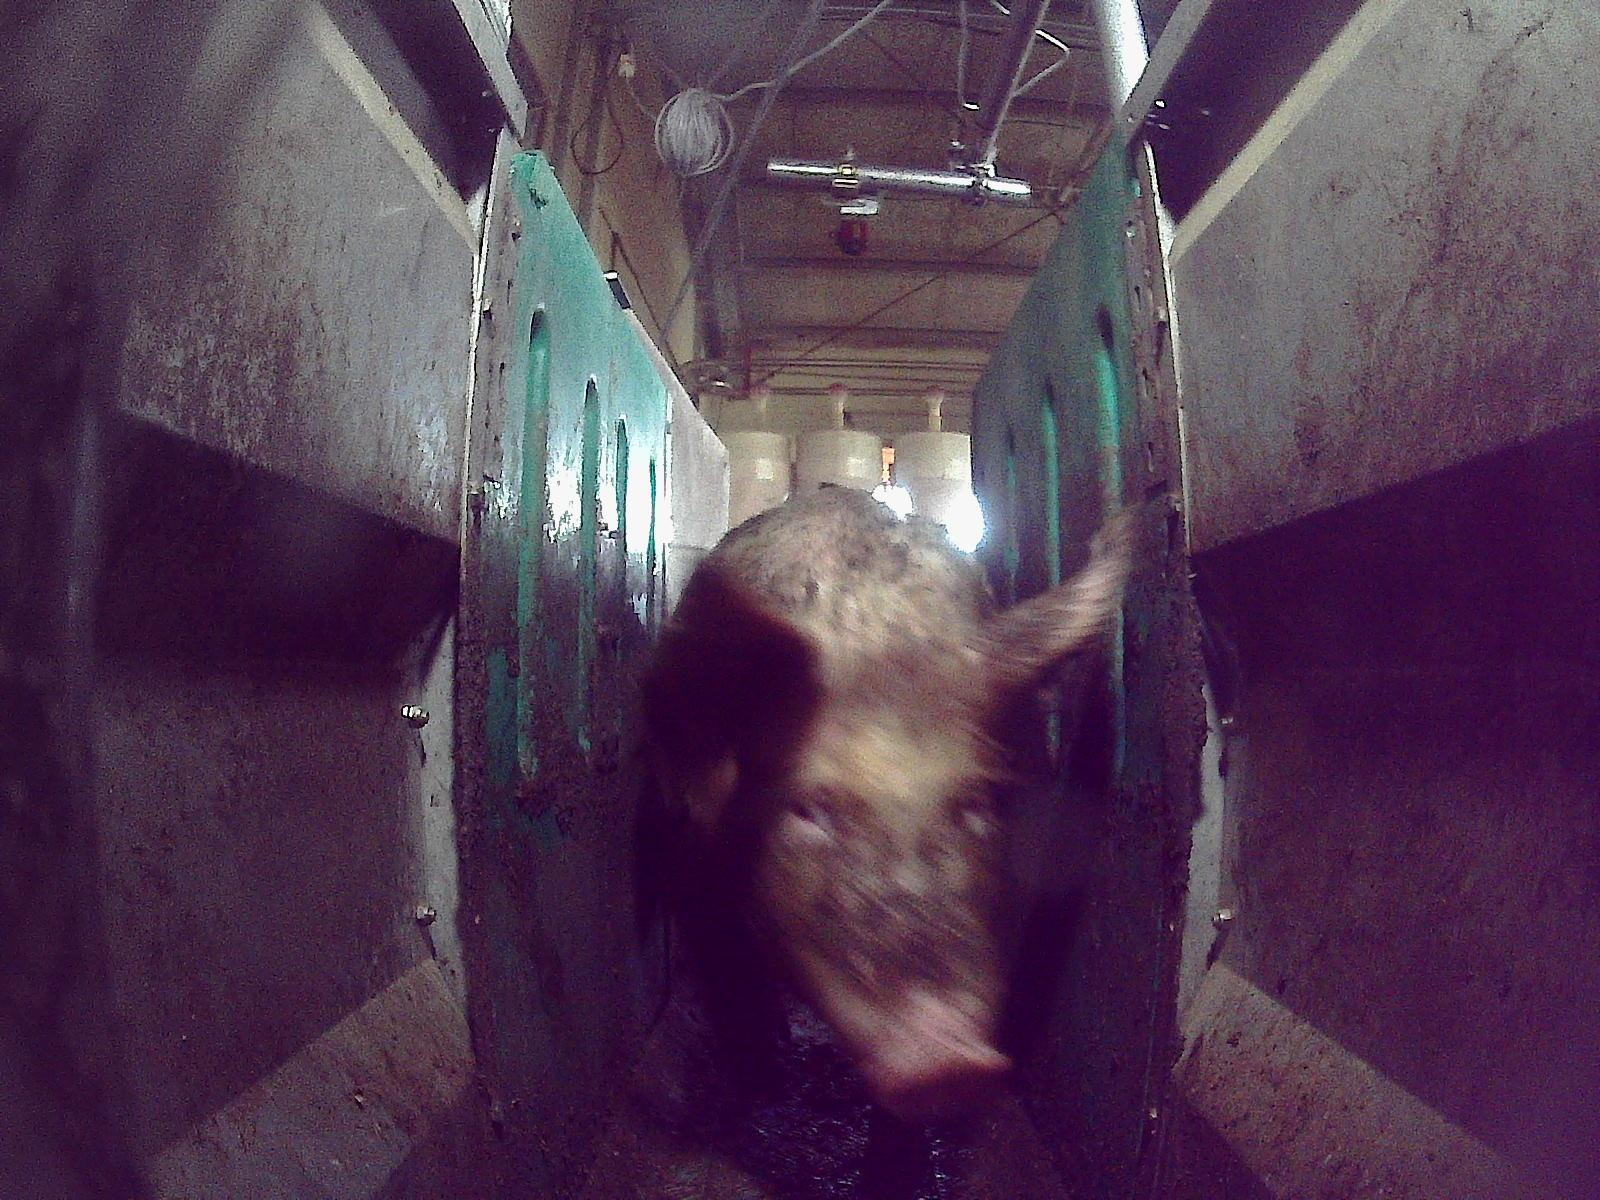Face: (736, 664, 1020, 1112)
